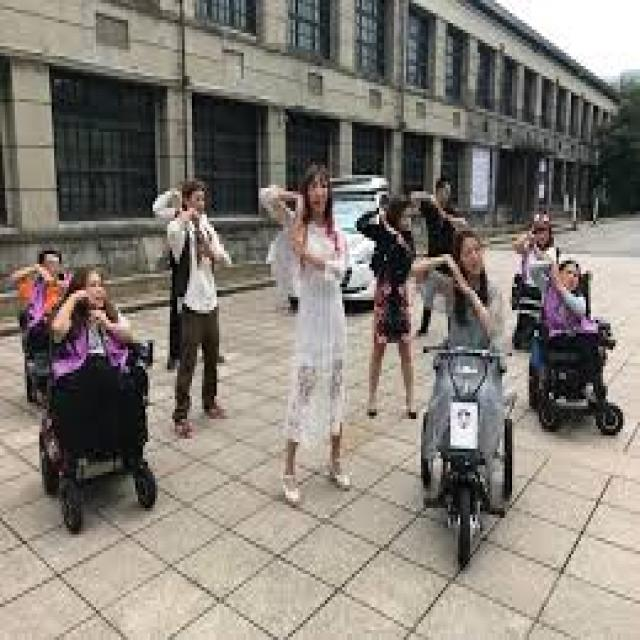wheelchairs: (32, 300, 177, 541), (517, 264, 620, 442)
